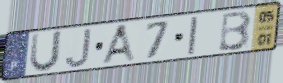7: (144, 19, 172, 60)
A: (99, 22, 138, 65)
B: (217, 9, 253, 53)
I: (186, 14, 200, 57)
J: (64, 27, 93, 70)
U: (27, 29, 65, 74)
